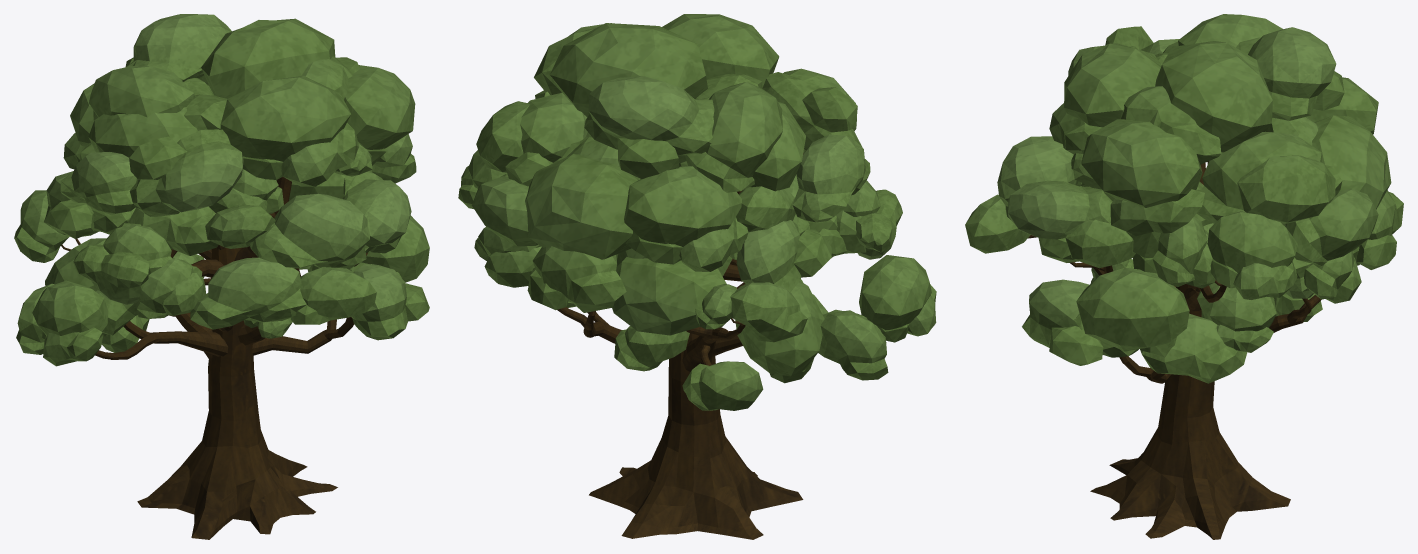
The model's file is Big_tree.fbx.
3 views of the same model, side by side, from view 1: azimuth 30°, elevation 25°; view 2: azimuth 150°, elevation 25°; view 3: azimuth 270°, elevation 25° (orthographic). The views are drawn at different scales.
Parts seen in each view (by area): view 1: Cylinder002, GeoSphere133, GeoSphere116, GeoSphere118, GeoSphere137, GeoSphere156, GeoSphere142, GeoSphere122, GeoSphere127, GeoSphere132, GeoSphere155, GeoSphere126 (+34 smaller); view 2: Cylinder002, GeoSphere146, GeoSphere118, GeoSphere122, GeoSphere108, GeoSphere127, GeoSphere150, GeoSphere132, GeoSphere133, GeoSphere196, GeoSphere168, GeoSphere130 (+30 smaller); view 3: Cylinder002, GeoSphere118, GeoSphere142, GeoSphere202, GeoSphere122, GeoSphere133, GeoSphere112, GeoSphere155, GeoSphere146, GeoSphere114, GeoSphere115, GeoSphere179 (+28 smaller).
Boxes of the visible parts, x1=… form: Cylinder002: x1=137, y1=247, x2=337, y2=539; GeoSphere133: x1=220, y1=75, x2=351, y2=161; GeoSphere116: x1=249, y1=193, x2=369, y2=268; GeoSphere118: x1=201, y1=18, x2=335, y2=98; GeoSphere137: x1=129, y1=129, x2=243, y2=216; GeoSphere156: x1=190, y1=257, x2=306, y2=329; GeoSphere142: x1=344, y1=65, x2=415, y2=149; GeoSphere122: x1=126, y1=14, x2=231, y2=85; GeoSphere127: x1=89, y1=66, x2=194, y2=120; GeoSphere132: x1=60, y1=152, x2=137, y2=214; GeoSphere155: x1=343, y1=171, x2=411, y2=253; GeoSphere126: x1=88, y1=107, x2=197, y2=157; Cylinder002: x1=589, y1=333, x2=803, y2=539; GeoSphere146: x1=525, y1=154, x2=637, y2=259; GeoSphere118: x1=550, y1=23, x2=707, y2=116; GeoSphere122: x1=584, y1=76, x2=714, y2=155; GeoSphere108: x1=624, y1=166, x2=741, y2=246; GeoSphere127: x1=685, y1=82, x2=782, y2=192; GeoSphere150: x1=612, y1=257, x2=726, y2=335; GeoSphere132: x1=792, y1=134, x2=870, y2=222; GeoSphere133: x1=662, y1=14, x2=779, y2=88; GeoSphere196: x1=859, y1=255, x2=931, y2=329; GeoSphere168: x1=532, y1=246, x2=626, y2=312; GeoSphere130: x1=736, y1=213, x2=809, y2=292; Cylinder002: x1=1090, y1=284, x2=1290, y2=539; GeoSphere118: x1=1155, y1=41, x2=1272, y2=152; GeoSphere142: x1=1081, y1=119, x2=1202, y2=207; GeoSphere202: x1=1076, y1=267, x2=1189, y2=351; GeoSphere122: x1=1236, y1=27, x2=1336, y2=120; GeoSphere133: x1=1064, y1=43, x2=1161, y2=127; GeoSphere112: x1=1237, y1=155, x2=1335, y2=224; GeoSphere155: x1=1008, y1=180, x2=1112, y2=239; GeoSphere146: x1=1312, y1=115, x2=1391, y2=209; GeoSphere114: x1=1196, y1=132, x2=1321, y2=223; GeoSphere115: x1=1285, y1=188, x2=1378, y2=265; GeoSphere179: x1=1207, y1=210, x2=1297, y2=272.
Bounding box in the file's own units: 2603 × 2827 × 2395.
